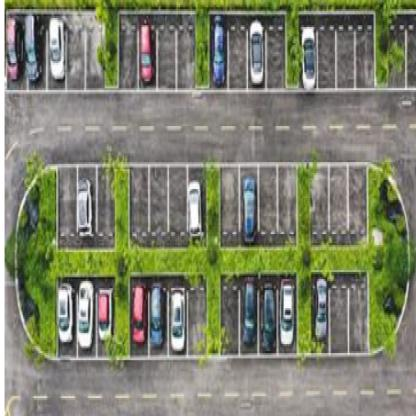Car: (57, 278, 73, 352), (48, 23, 66, 87), (191, 180, 209, 240), (79, 174, 95, 236), (100, 288, 116, 342), (300, 34, 318, 82), (263, 280, 276, 345), (171, 284, 183, 353), (210, 21, 224, 80), (79, 276, 91, 342), (141, 27, 154, 80), (282, 286, 294, 343), (28, 21, 41, 73), (244, 280, 255, 341), (250, 30, 262, 84), (7, 27, 20, 76), (150, 296, 163, 340), (246, 177, 256, 233), (133, 286, 142, 342)
Empty: (348, 177, 368, 234), (85, 28, 104, 72), (60, 182, 76, 232), (98, 184, 112, 235), (68, 26, 81, 76), (232, 40, 246, 86), (171, 170, 183, 223), (311, 181, 323, 228), (121, 30, 135, 70), (160, 36, 174, 76), (153, 181, 166, 223), (135, 180, 147, 225), (192, 287, 202, 339), (281, 180, 293, 223), (333, 181, 345, 224), (224, 282, 233, 339), (264, 178, 274, 228), (181, 36, 194, 73), (352, 294, 362, 341), (357, 41, 369, 77), (322, 36, 332, 78), (269, 38, 282, 70), (224, 181, 232, 231), (334, 293, 344, 332), (341, 42, 353, 74)
